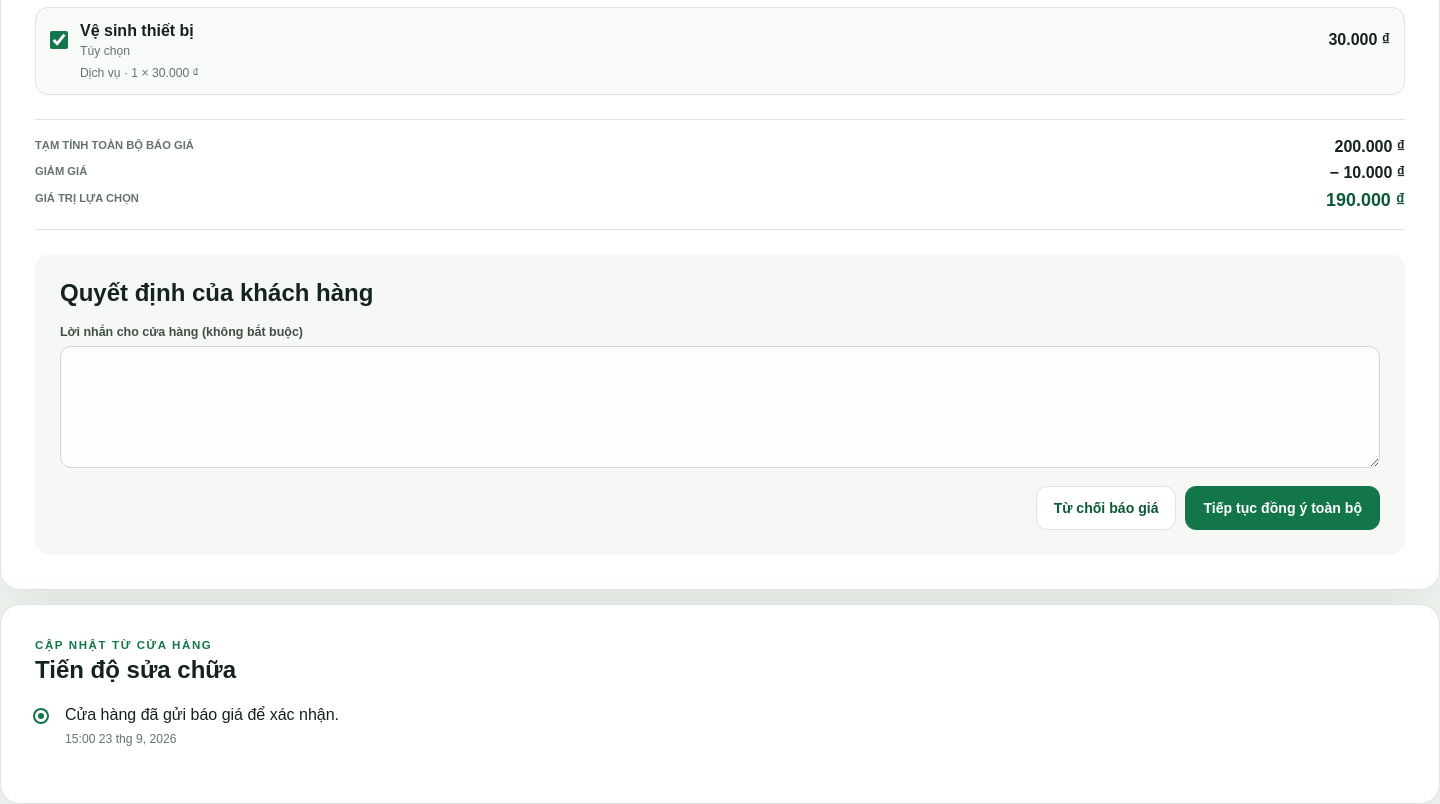
PublicQuotePortalScreen › records a decline with no approved item IDs
(page scrolled)
Click the button "Từ chối báo giá": point(1106, 508) [1036,486,1176,530]
(page scrolled)
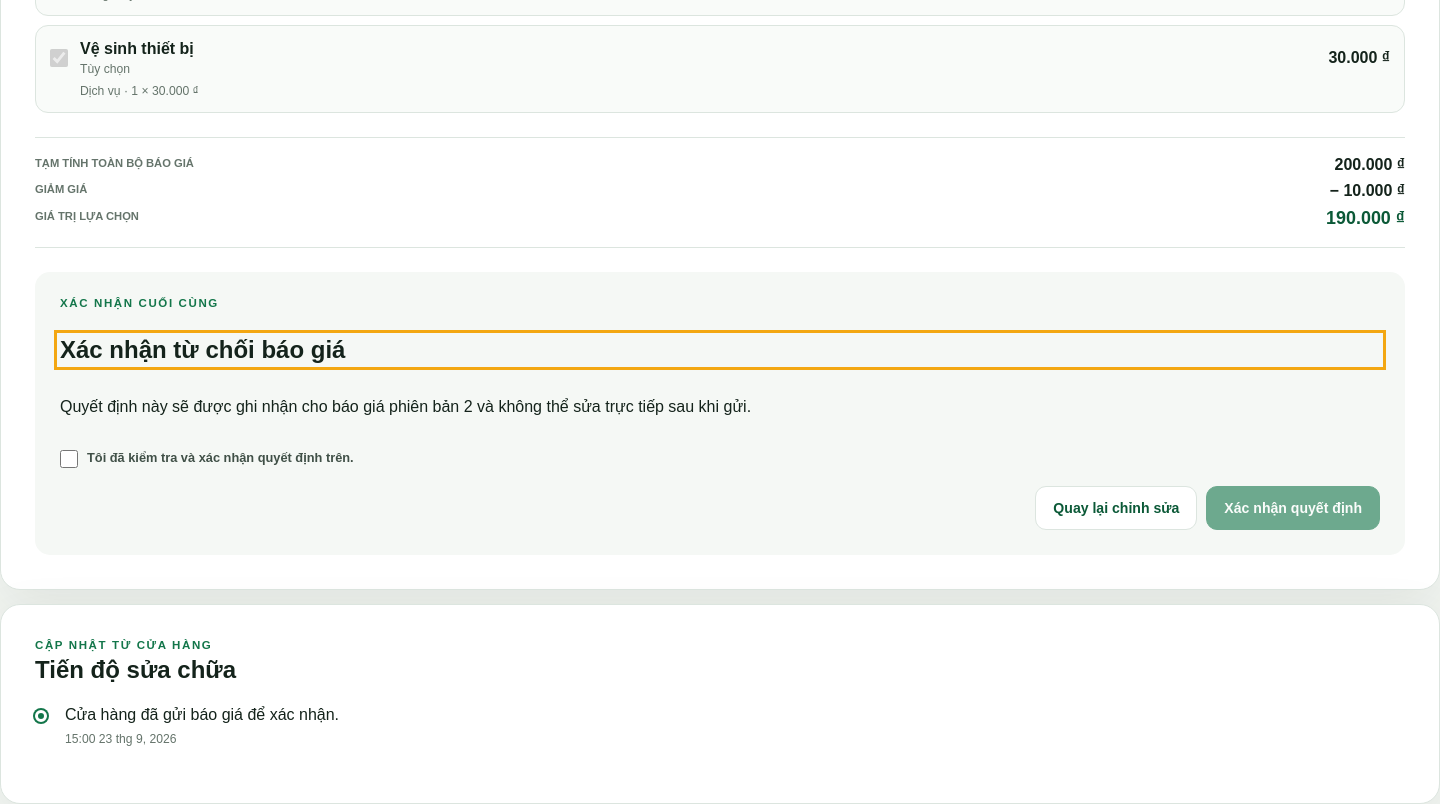
Click the checkbox labelled "Tôi đã kiểm tra và xác nhận quyết định trên.": point(69, 459) [60,450,78,468]
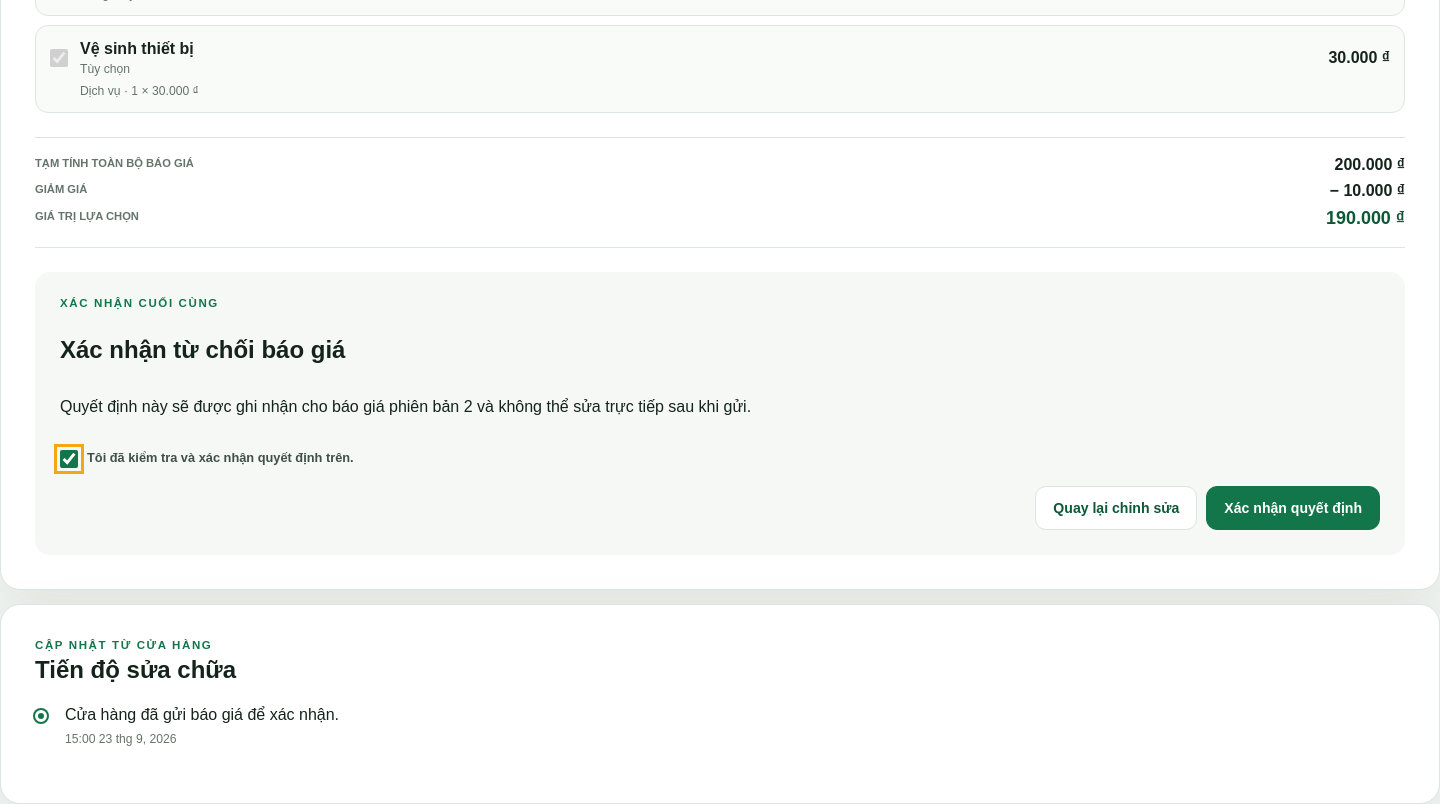
Click the button "Xác nhận quyết định": point(1293, 508) [1206,486,1380,530]
(page scrolled)
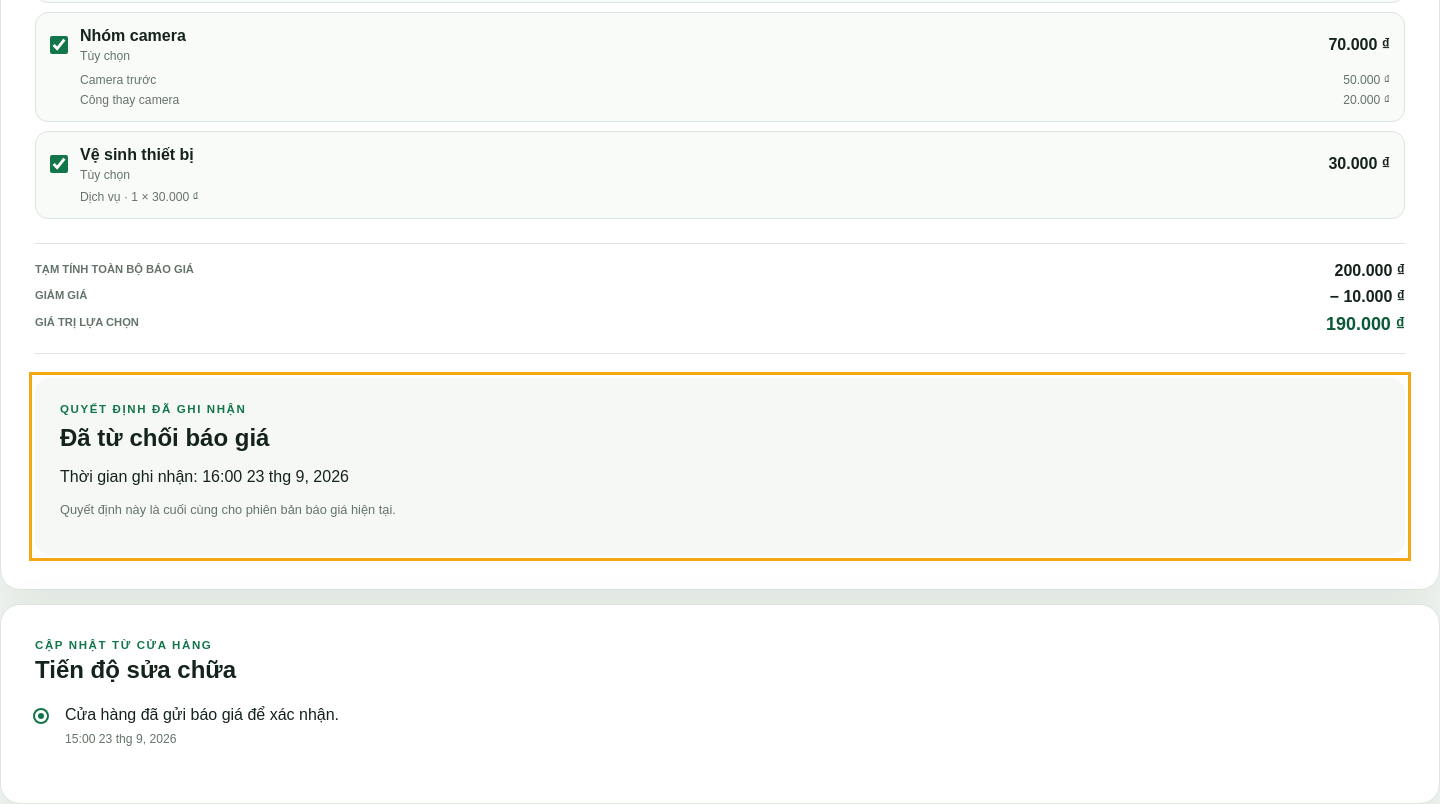
Expected: the heading "Đã từ chối báo giá" is shown, [60,424,269,451]
